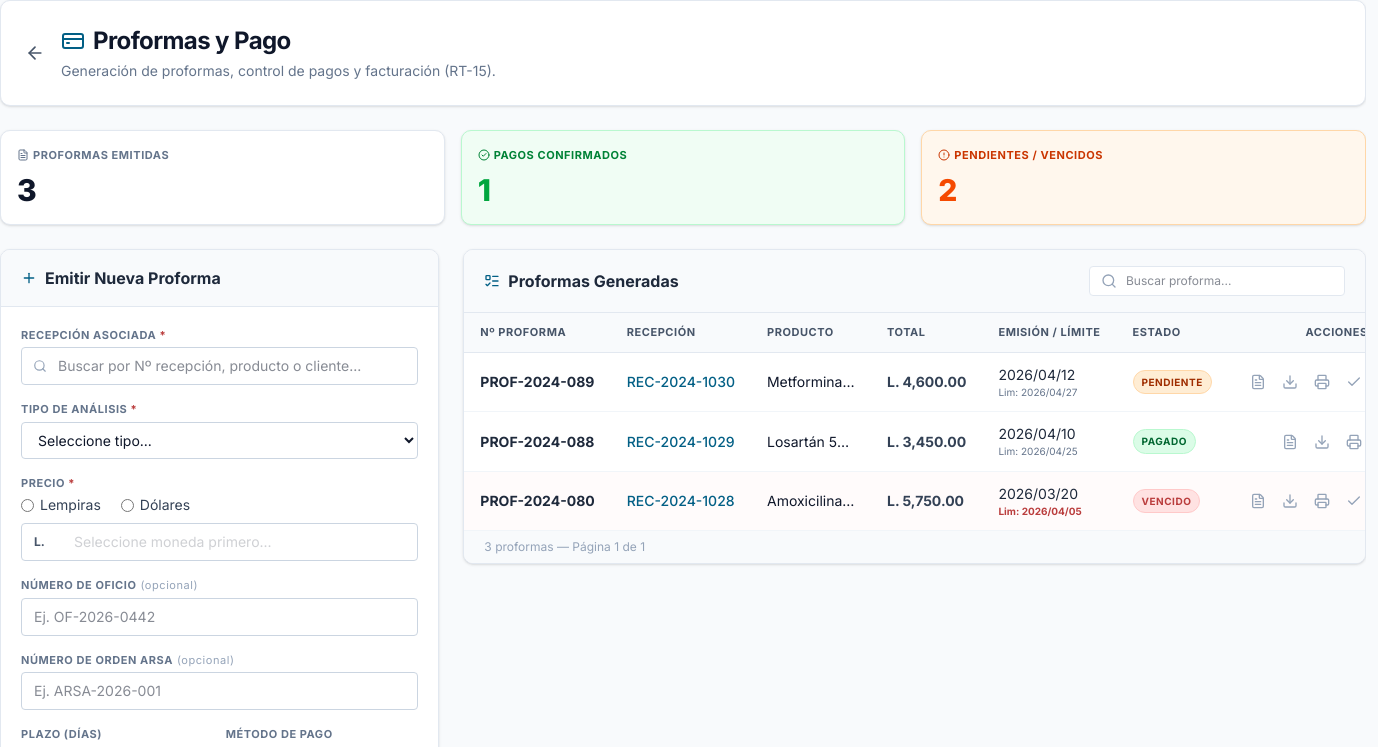
Test: ProformasPagoPage — /rac/proformas › Recepción — autocomplete, no select estático › filtra por nombre de cliente
This screenshot has width=1378, height=747.
Type "IHSS" into the field with test id "recepcion-search".
click(220, 366); type("IHSS")  # box [21,347,418,385]
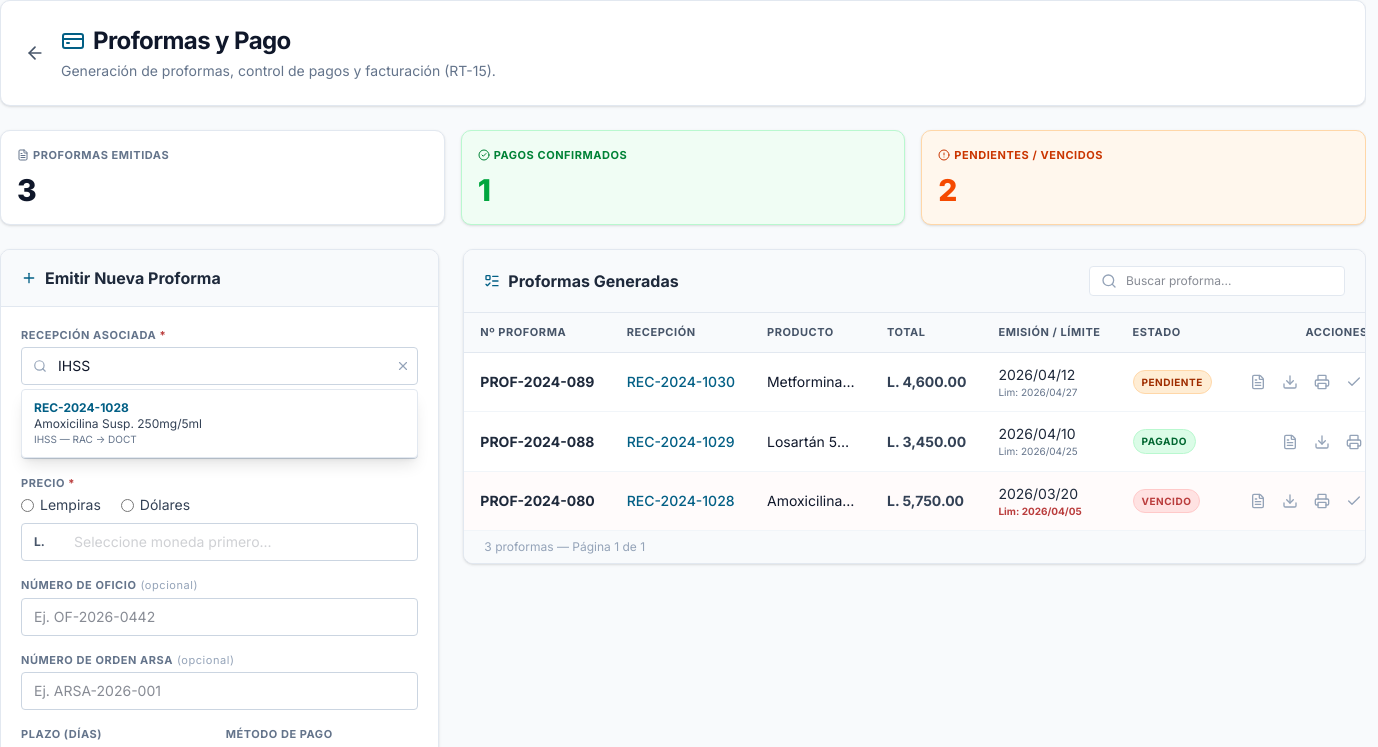
Now the button with test id "recepcion-option" is shown, box [22,390,417,457]
